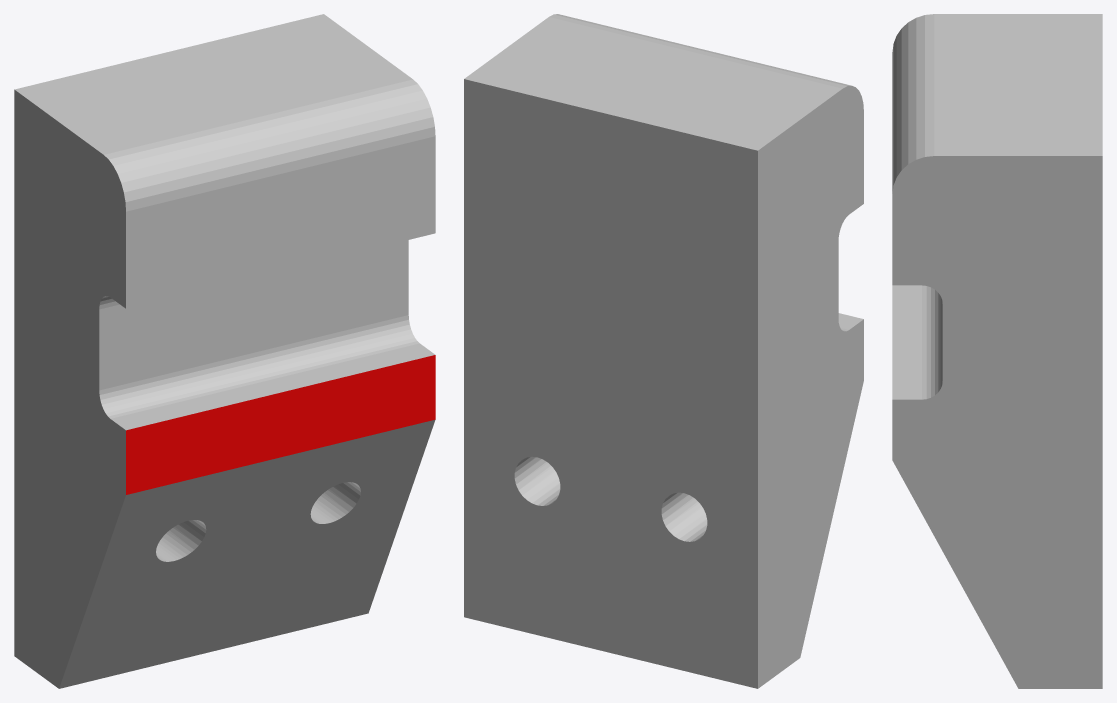
File: TESTE_M5_stp_12.obj
3 views of the same model, side by side, from view 1: azimuth 30°, elevation 25°; view 2: azimuth 150°, elevation 25°; view 3: azimuth 270°, elevation 25° (orthographic). The views are drawn at different scales.
Visible parts, largest first — view 1: Object1; view 2: Object1; view 3: Object1.
Part boxes in pixels (bbox=[...]): Object1: bbox=[14, 14, 435, 688]; Object1: bbox=[464, 14, 863, 688]; Object1: bbox=[892, 14, 1102, 688].
Size of the model in its own units: 50.8 by 88.9 by 31.75.
